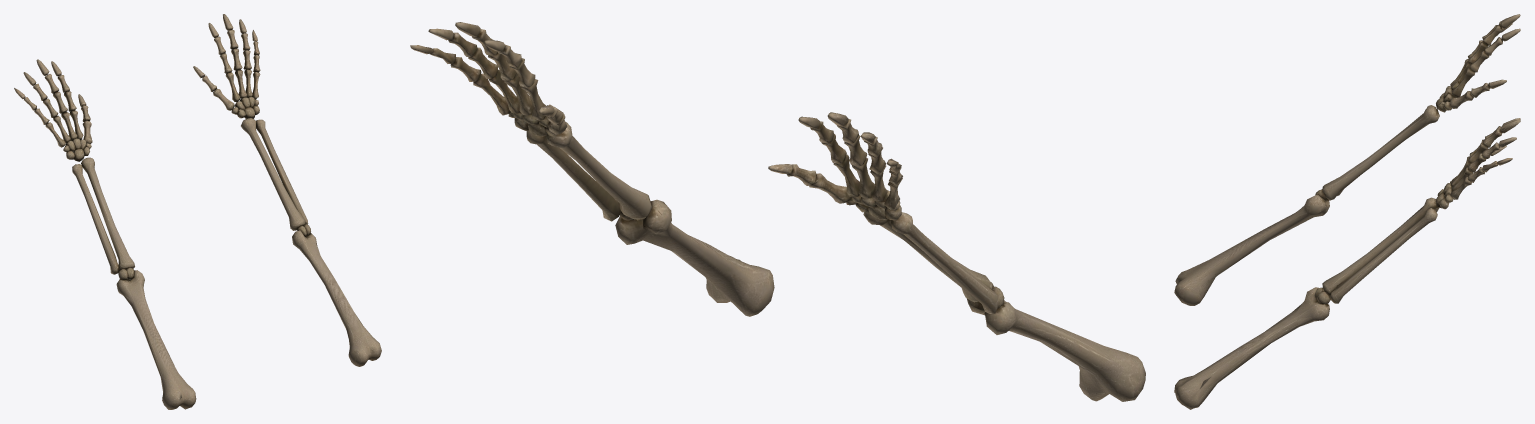
The model's file is bone-arms.glb.
3 views of the same model, side by side, from view 1: azimuth 30°, elevation 25°; view 2: azimuth 150°, elevation 25°; view 3: azimuth 270°, elevation 25° (orthographic). The views are drawn at different scales.
Visible parts, largest first — view 1: tripo_node_9246f5d0-fe86-447a-96ec-ea89f5baa8c7; view 2: tripo_node_9246f5d0-fe86-447a-96ec-ea89f5baa8c7; view 3: tripo_node_9246f5d0-fe86-447a-96ec-ea89f5baa8c7.
Boxes of the visible parts, x1,y1,x2,y2 form: tripo_node_9246f5d0-fe86-447a-96ec-ea89f5baa8c7: (14, 14, 381, 409); tripo_node_9246f5d0-fe86-447a-96ec-ea89f5baa8c7: (410, 22, 1145, 401); tripo_node_9246f5d0-fe86-447a-96ec-ea89f5baa8c7: (1174, 14, 1520, 409).
Size of the model in its own units: 0.9272 by 0.9175 by 0.9995.
Materials: 1 (1 with a texture image).
